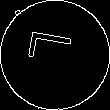L_E: (27, 35, 82, 75)
